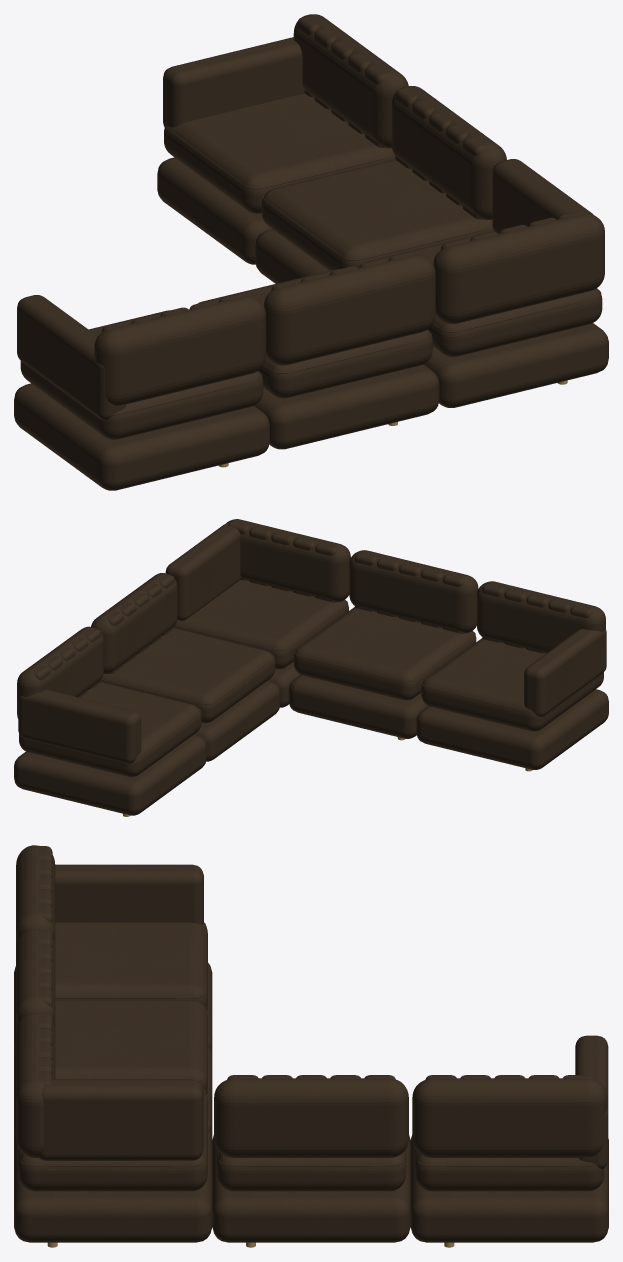
The model's file is luxury-leather-corner.glb.
3 views of the same model, one above another, from view 1: azimuth 30°, elevation 25°; view 2: azimuth 150°, elevation 25°; view 3: azimuth 270°, elevation 25° (orthographic). The views are drawn at different scales.
Visible parts, largest first — view 1: leather_0; view 2: leather_0; view 3: leather_0.
Boxes of the visible parts, x1,y1,x2,y2 form: leather_0: (14, 14, 608, 490); leather_0: (14, 519, 608, 815); leather_0: (14, 845, 608, 1242).
Bounding box in the file's own units: 3.05 × 0.9765 × 3.05.
Materials: 2 (1 with a texture image).
